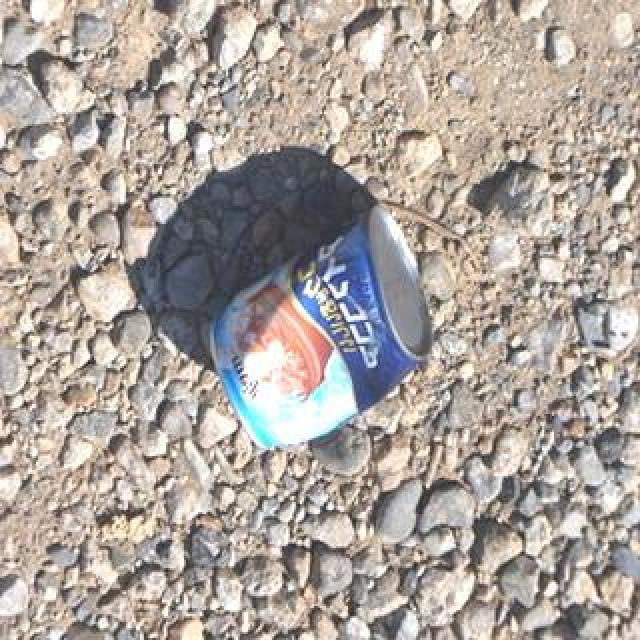Can: (203, 193, 439, 457)
